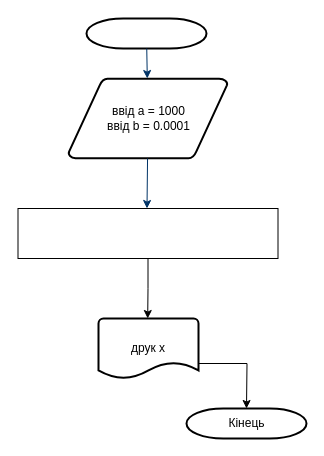
Some shapes in this 324 by 456 pixel diagram are drawn without their labels. Here are the shapes that lost their labels. From the top down, the centre of each, then its label:
At point (146, 33): "Початок".
At point (147, 233): "x = ((a-b)^3-a^3)/(b^3-3*a*b^2-3*a^2*b)".
